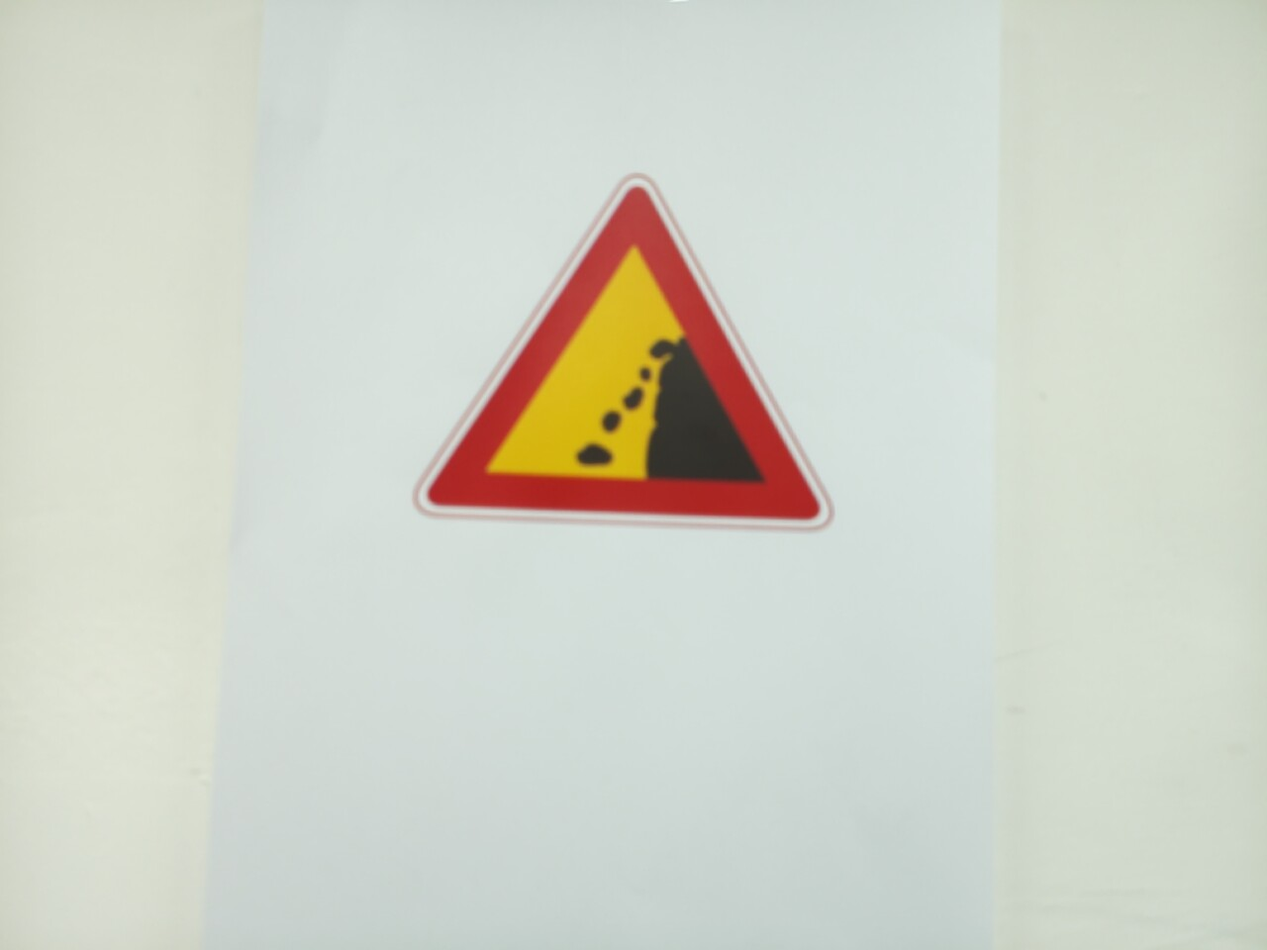falling_rocks: (416, 177, 831, 529)
